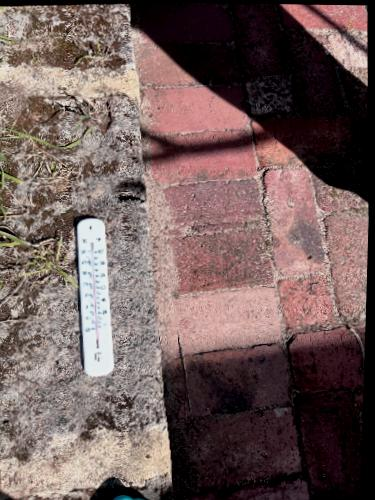thermo: (76, 218, 114, 377)
